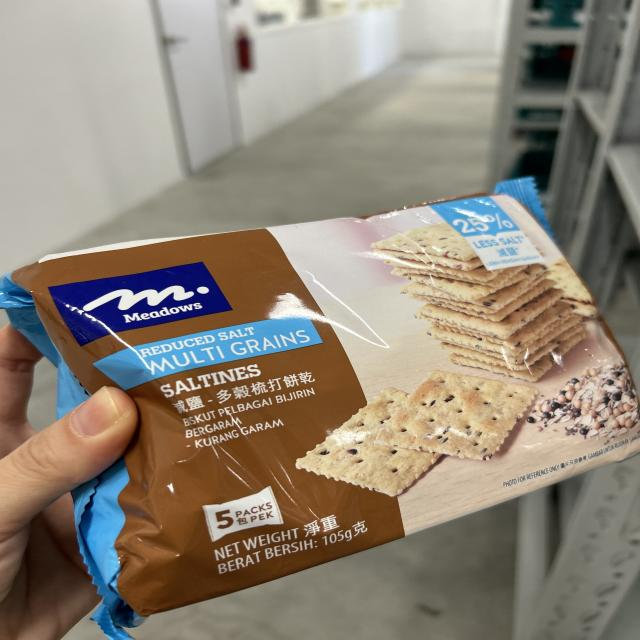object_name: (72, 251, 608, 488)
